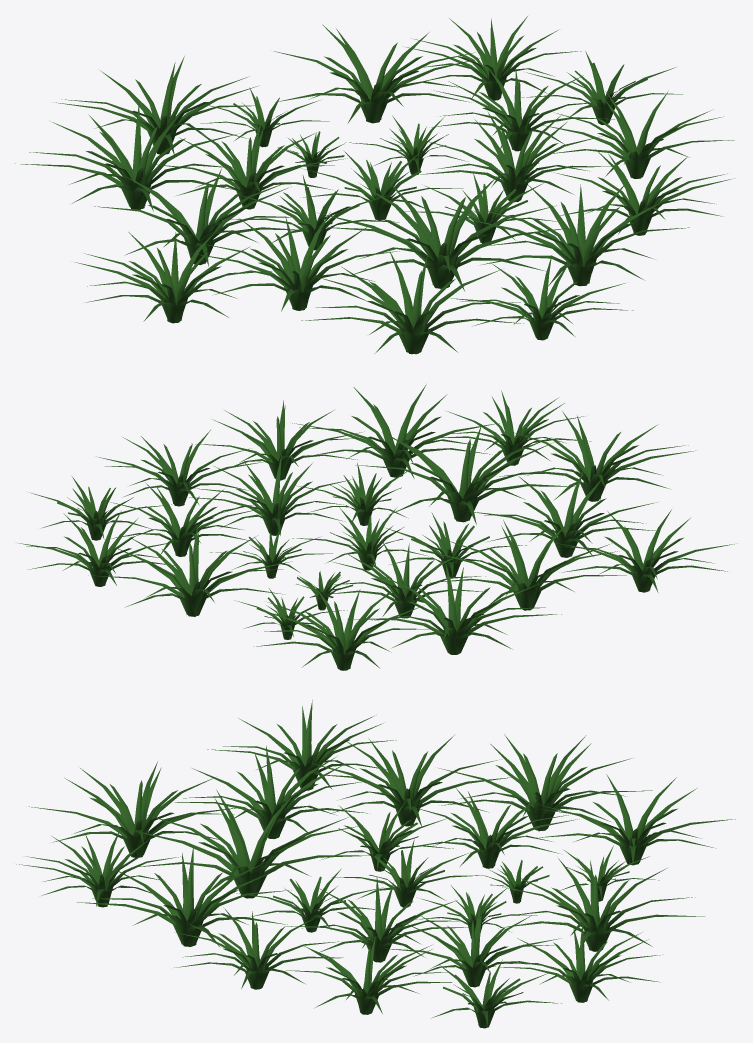
File: SM_Grass_001_LOD1.fbx
3 views of the same model, one above another, from view 1: azimuth 30°, elevation 25°; view 2: azimuth 150°, elevation 25°; view 3: azimuth 270°, elevation 25° (orthographic). The views are drawn at different scales.
Parts seen in each view (by area): view 1: Grass; view 2: Grass; view 3: Grass.
Part boxes in pixels (left/top/right/bottom): Grass: left=15, top=16, right=734, bottom=354; Grass: left=18, top=384, right=736, bottom=670; Grass: left=16, top=700, right=735, bottom=1028.
Bounding box in the file's own units: 594 × 53.76 × 574.
